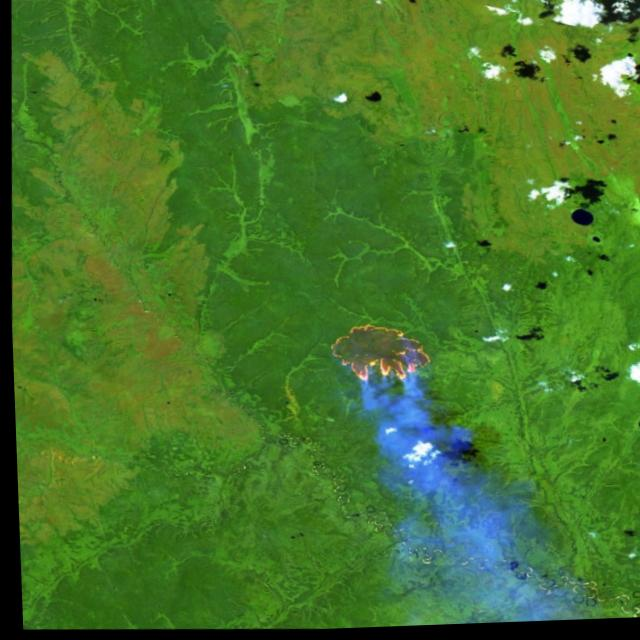fire: (321, 319, 437, 392)
